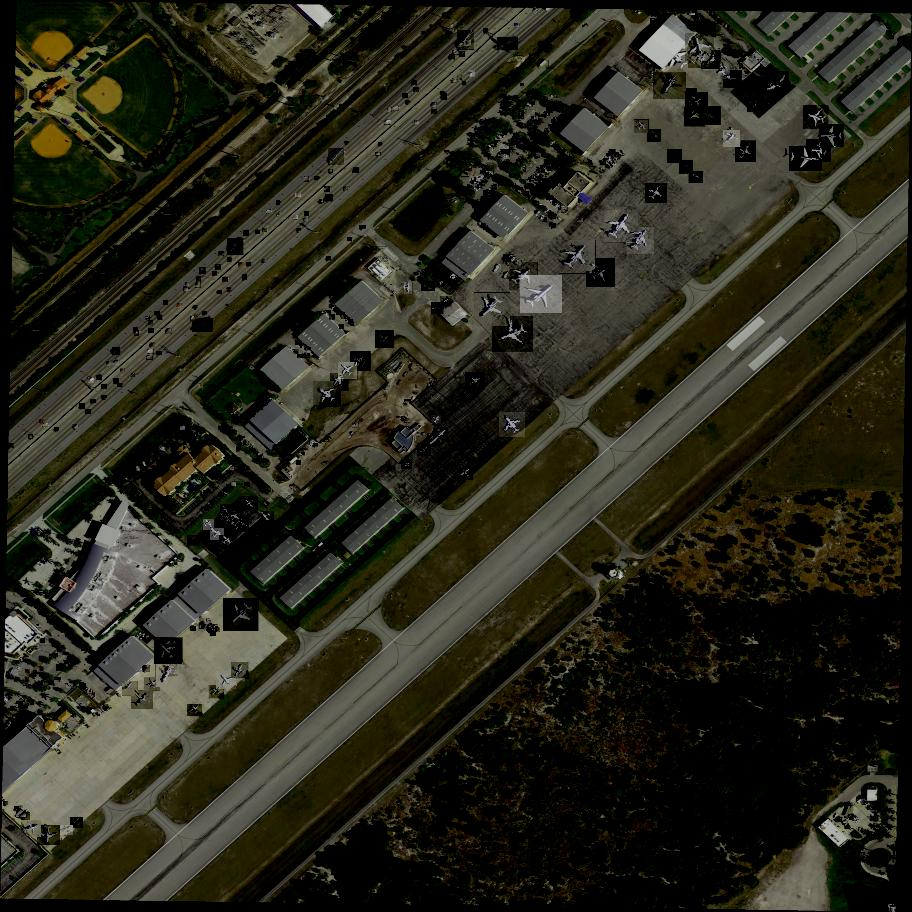large-vehicle: (458, 30, 474, 51), (192, 318, 214, 333), (227, 237, 244, 255), (328, 148, 344, 166), (498, 37, 519, 50), (844, 802, 854, 819), (538, 60, 549, 70), (16, 810, 28, 819), (508, 258, 518, 267), (21, 812, 30, 822), (494, 264, 502, 274), (9, 668, 18, 676), (142, 666, 152, 673), (503, 255, 513, 262), (503, 272, 511, 280), (15, 807, 22, 812)
plane: (520, 275, 563, 317), (494, 315, 534, 354), (560, 239, 596, 277), (474, 292, 510, 328), (223, 598, 259, 633), (605, 210, 638, 245), (653, 71, 686, 102), (585, 259, 615, 289), (509, 262, 539, 292), (626, 226, 655, 256), (685, 33, 715, 61), (789, 146, 822, 171), (155, 638, 184, 666), (313, 381, 341, 409), (156, 660, 183, 689), (500, 412, 526, 438), (804, 105, 830, 130), (807, 139, 832, 163), (685, 91, 708, 115), (688, 47, 711, 70), (819, 124, 843, 146), (735, 140, 756, 164), (684, 106, 706, 128), (131, 689, 154, 710), (645, 183, 667, 204), (37, 826, 60, 846), (350, 351, 371, 372), (216, 671, 236, 692), (701, 50, 721, 71), (700, 107, 721, 127), (466, 372, 486, 392), (339, 362, 358, 382), (376, 329, 395, 349), (723, 69, 742, 89), (21, 820, 42, 838), (331, 373, 349, 392), (723, 130, 742, 148), (232, 662, 249, 680), (122, 681, 139, 697), (209, 685, 225, 701), (144, 678, 161, 693), (748, 96, 763, 113), (433, 426, 449, 441), (668, 148, 683, 164), (243, 496, 259, 511), (187, 704, 203, 719), (714, 64, 730, 79), (634, 120, 649, 135), (417, 443, 432, 457), (679, 160, 693, 175), (647, 129, 661, 143), (460, 467, 474, 481), (689, 171, 704, 184), (230, 518, 243, 532), (211, 528, 225, 541), (238, 519, 251, 533), (219, 535, 233, 548), (777, 72, 790, 86), (431, 302, 444, 315), (428, 435, 441, 448), (229, 512, 242, 525), (262, 511, 274, 525), (221, 504, 233, 518), (440, 296, 453, 308), (422, 282, 435, 294), (222, 511, 234, 524), (188, 535, 201, 547), (71, 817, 84, 829), (203, 519, 215, 532), (767, 82, 780, 94), (402, 459, 413, 471), (686, 89, 697, 101), (60, 826, 73, 836), (431, 415, 442, 426), (405, 283, 412, 294)
small-vehicle: (113, 347, 120, 357), (326, 195, 334, 203), (200, 267, 207, 275), (833, 813, 840, 821), (437, 281, 445, 288), (56, 664, 63, 671), (215, 264, 222, 271), (469, 70, 476, 77), (441, 94, 448, 101), (430, 102, 437, 109), (547, 106, 554, 113), (518, 113, 525, 120), (190, 316, 198, 322), (858, 799, 864, 807), (462, 171, 470, 177), (295, 340, 302, 346), (66, 683, 73, 689), (329, 314, 335, 321), (190, 626, 197, 632), (93, 713, 99, 720), (210, 632, 217, 638), (199, 623, 206, 629), (238, 262, 245, 268), (79, 403, 85, 410), (147, 349, 154, 355), (113, 378, 119, 385), (218, 251, 224, 258), (243, 230, 249, 237), (548, 212, 555, 218), (459, 51, 465, 58), (278, 476, 285, 482), (517, 139, 524, 145), (554, 117, 560, 124), (165, 329, 173, 334), (835, 818, 843, 823), (79, 682, 85, 688), (10, 717, 16, 723), (131, 470, 137, 476), (163, 443, 169, 449), (339, 324, 345, 330), (173, 640, 179, 646), (354, 168, 360, 174), (215, 627, 221, 633), (193, 305, 199, 311), (106, 360, 112, 366), (149, 328, 155, 334), (88, 377, 94, 383), (147, 355, 153, 361), (73, 424, 79, 430), (85, 409, 91, 415), (156, 351, 162, 357), (149, 342, 155, 348), (101, 384, 107, 390), (164, 300, 170, 306), (233, 248, 239, 254), (547, 195, 553, 201), (536, 179, 542, 185), (533, 181, 539, 187), (615, 152, 621, 158), (614, 155, 620, 161), (608, 162, 614, 168), (609, 151, 615, 157), (405, 418, 411, 424), (353, 423, 359, 429), (218, 492, 224, 498), (454, 50, 460, 56), (431, 109, 437, 115), (514, 23, 520, 29), (204, 506, 210, 512), (168, 505, 174, 511), (498, 151, 504, 157), (518, 171, 524, 177), (491, 142, 497, 148), (10, 706, 17, 711), (59, 664, 66, 669), (185, 423, 192, 428), (305, 353, 310, 360), (135, 330, 140, 337), (114, 359, 119, 366), (96, 375, 103, 380), (520, 190, 527, 195), (560, 150, 567, 155), (546, 187, 553, 192), (841, 821, 848, 826), (577, 218, 584, 223), (611, 159, 616, 166), (223, 488, 230, 493), (384, 121, 391, 126), (413, 88, 420, 93), (523, 151, 530, 156), (471, 164, 478, 169), (857, 797, 862, 803), (65, 632, 70, 638), (81, 648, 87, 653), (19, 709, 25, 714), (8, 718, 13, 724), (136, 466, 141, 472), (143, 461, 148, 467), (9, 443, 14, 449), (50, 655, 56, 660), (20, 657, 25, 663), (262, 228, 268, 233), (305, 176, 310, 182), (294, 349, 300, 354), (304, 346, 310, 351), (289, 345, 294, 351), (337, 310, 342, 316), (348, 319, 353, 325), (59, 701, 64, 707), (104, 704, 109, 710), (325, 186, 330, 192), (344, 186, 349, 192), (214, 625, 219, 631), (204, 624, 209, 630), (243, 275, 248, 281), (223, 278, 229, 283), (202, 311, 208, 316), (177, 303, 182, 309), (196, 282, 201, 288), (197, 276, 202, 282), (516, 187, 521, 193), (513, 186, 519, 191), (510, 184, 516, 189), (487, 189, 493, 194), (492, 185, 497, 191), (539, 205, 544, 211), (536, 204, 542, 209), (479, 182, 485, 187), (538, 177, 544, 182), (536, 169, 542, 174), (553, 180, 558, 186), (545, 160, 550, 166), (566, 154, 571, 160), (472, 178, 477, 184), (483, 177, 489, 182), (551, 214, 556, 220), (536, 211, 542, 216), (887, 30, 893, 35), (872, 810, 878, 815), (850, 814, 855, 820), (854, 819, 860, 824), (845, 823, 850, 829), (634, 56, 640, 61), (639, 59, 645, 64), (650, 18, 656, 23), (600, 160, 606, 165), (388, 107, 393, 113), (440, 91, 446, 96), (450, 55, 455, 61), (403, 94, 409, 99), (405, 100, 410, 106), (208, 502, 213, 508), (239, 436, 245, 441), (243, 439, 248, 445), (260, 456, 265, 462), (257, 454, 263, 459), (245, 482, 251, 487), (514, 144, 520, 149), (504, 154, 509, 160), (501, 149, 507, 154), (548, 124, 554, 129), (529, 177, 534, 183), (535, 172, 541, 177), (465, 42, 471, 47), (527, 121, 532, 127), (544, 112, 550, 117), (536, 120, 542, 125), (538, 118, 543, 124), (514, 133, 519, 139), (499, 133, 505, 138), (159, 447, 166, 451), (297, 355, 304, 359), (113, 638, 120, 642), (69, 681, 74, 686), (5, 720, 10, 725), (4, 710, 9, 715), (65, 659, 70, 664), (134, 470, 139, 475), (166, 440, 171, 445), (175, 434, 180, 439), (181, 427, 186, 432), (130, 472, 135, 477), (25, 669, 30, 674), (18, 668, 23, 673), (29, 700, 34, 705), (255, 230, 260, 235), (315, 176, 320, 181), (325, 310, 330, 315), (293, 215, 298, 220), (300, 343, 305, 348), (306, 348, 311, 353), (342, 315, 347, 320), (176, 583, 181, 588), (64, 724, 69, 729), (74, 715, 79, 720), (101, 649, 106, 654), (217, 290, 222, 295), (247, 263, 252, 268), (227, 287, 232, 292), (134, 328, 139, 333), (118, 383, 123, 388), (158, 316, 163, 321), (228, 258, 233, 263), (481, 224, 486, 229), (472, 204, 477, 209), (489, 187, 494, 192), (551, 199, 556, 204), (556, 204, 561, 209), (545, 209, 550, 214), (402, 417, 407, 422), (866, 803, 871, 808), (853, 817, 858, 822), (859, 827, 864, 832), (670, 10, 675, 15), (588, 160, 593, 165), (583, 25, 588, 30), (619, 151, 624, 156), (557, 146, 562, 151), (403, 402, 408, 407), (462, 82, 467, 87), (203, 490, 208, 495), (233, 430, 238, 435), (194, 432, 199, 437), (250, 413, 255, 418), (313, 443, 318, 448), (231, 483, 236, 488), (297, 461, 302, 466), (484, 29, 489, 34), (550, 141, 555, 146), (535, 154, 540, 159), (518, 157, 523, 162), (506, 153, 511, 158), (501, 156, 506, 161), (445, 150, 450, 155), (532, 175, 537, 180), (504, 146, 509, 151), (532, 125, 537, 130), (531, 116, 536, 121), (535, 112, 540, 117), (528, 103, 533, 108), (531, 101, 536, 106), (489, 143, 494, 148), (452, 277, 457, 282), (488, 146, 493, 151), (496, 137, 501, 142), (502, 131, 507, 136), (93, 694, 97, 700), (18, 701, 24, 705), (8, 709, 14, 713), (146, 459, 150, 465), (38, 667, 44, 671), (295, 194, 301, 198), (303, 217, 309, 221), (95, 711, 101, 715), (305, 211, 309, 217), (258, 406, 264, 410), (484, 191, 490, 195), (544, 169, 550, 173), (564, 152, 568, 158), (557, 149, 563, 153), (484, 175, 490, 179), (470, 182, 476, 186), (544, 190, 550, 194), (541, 215, 545, 221), (40, 560, 46, 564), (543, 217, 547, 223), (575, 246, 581, 250), (605, 165, 611, 169), (610, 150, 616, 154), (555, 144, 559, 150), (227, 484, 233, 488), (241, 439, 247, 443), (205, 506, 211, 510), (496, 154, 502, 158), (526, 180, 532, 184), (529, 120, 535, 124), (512, 137, 518, 141), (518, 260, 522, 266), (88, 691, 93, 695), (84, 687, 89, 691), (82, 684, 86, 689), (41, 680, 46, 684), (49, 680, 53, 685), (55, 678, 60, 682), (5, 696, 9, 701), (20, 699, 25, 703), (27, 702, 32, 706), (25, 704, 29, 709), (16, 712, 21, 716), (14, 704, 19, 708), (154, 452, 158, 457), (126, 477, 130, 482), (177, 431, 182, 435), (57, 649, 62, 653), (52, 653, 57, 657), (32, 673, 37, 677), (26, 678, 30, 683), (41, 638, 45, 643), (35, 645, 40, 649), (329, 304, 334, 308), (263, 259, 267, 264), (327, 256, 331, 261), (341, 312, 345, 317), (171, 587, 176, 591), (97, 709, 102, 713), (207, 628, 212, 632), (148, 321, 153, 325), (185, 283, 190, 287), (478, 223, 483, 227), (481, 198, 485, 203), (482, 196, 487, 200), (559, 206, 563, 211), (494, 184, 499, 188), (477, 184, 482, 188), (534, 175, 539, 179), (542, 173, 546, 178), (489, 170, 493, 175), (467, 184, 472, 188), (475, 177, 479, 182), (477, 176, 481, 181), (480, 171, 485, 175), (485, 167, 490, 171), (38, 562, 43, 566), (862, 829, 866, 834), (648, 64, 652, 69), (533, 9, 538, 13), (552, 223, 556, 228), (550, 222, 554, 227), (604, 158, 608, 163), (379, 142, 383, 147), (394, 107, 399, 111), (254, 449, 258, 454), (237, 447, 241, 452), (263, 401, 267, 406), (226, 470, 230, 475), (452, 78, 456, 83), (507, 149, 511, 154), (467, 168, 472, 172), (509, 140, 513, 145), (535, 115, 539, 120), (544, 129, 549, 133), (504, 130, 509, 134), (154, 311, 160, 314), (692, 16, 698, 19), (611, 159, 617, 162), (413, 121, 419, 124), (551, 95, 557, 98), (88, 689, 92, 693), (67, 667, 71, 671), (69, 664, 73, 668), (30, 674, 34, 678), (33, 670, 37, 674), (15, 660, 19, 664), (348, 238, 352, 242), (107, 643, 111, 647), (100, 708, 104, 712), (107, 646, 111, 650), (184, 287, 188, 291), (237, 399, 241, 403), (484, 193, 488, 197), (562, 210, 566, 214), (564, 207, 568, 211), (533, 201, 537, 205), (483, 168, 487, 172), (730, 29, 734, 33), (590, 164, 594, 168), (606, 156, 610, 160), (201, 491, 205, 495), (253, 412, 257, 416), (290, 485, 294, 489), (521, 167, 525, 171), (506, 144, 510, 148), (547, 126, 551, 130), (512, 139, 516, 143), (456, 278, 460, 282), (494, 140, 498, 144), (498, 136, 502, 140), (43, 423, 48, 426), (484, 225, 487, 230), (519, 187, 522, 192), (543, 164, 548, 167), (739, 66, 744, 69), (695, 13, 700, 16), (692, 10, 697, 13), (230, 467, 235, 470), (536, 153, 541, 156), (551, 120, 556, 123), (541, 114, 546, 117), (522, 110, 527, 113), (404, 400, 411, 402), (14, 714, 18, 717), (13, 714, 16, 718), (100, 502, 103, 506), (68, 658, 71, 662), (67, 698, 71, 701), (332, 307, 335, 311), (303, 345, 306, 349), (174, 586, 178, 589), (209, 629, 213, 632), (29, 434, 32, 438), (131, 374, 135, 377), (546, 167, 550, 170), (551, 184, 555, 187), (479, 175, 483, 178), (712, 13, 715, 17), (360, 226, 366, 228), (412, 81, 416, 84), (534, 123, 538, 126), (71, 662, 76, 664), (296, 229, 301, 231), (54, 428, 59, 430), (91, 400, 96, 402), (102, 396, 107, 398), (486, 173, 491, 175), (745, 71, 750, 73), (738, 63, 743, 65), (695, 18, 700, 20), (607, 154, 612, 156), (375, 153, 380, 155), (260, 403, 265, 405), (510, 148, 515, 150), (102, 707, 105, 710), (320, 199, 323, 202), (207, 618, 210, 621), (4, 801, 7, 804), (121, 369, 124, 372), (478, 200, 481, 203), (549, 197, 552, 200), (543, 206, 546, 209), (458, 76, 461, 79), (251, 449, 254, 452), (162, 515, 165, 518), (91, 693, 95, 695), (37, 625, 41, 627), (334, 309, 338, 311), (351, 322, 353, 326), (525, 192, 529, 194), (541, 165, 545, 167), (728, 41, 732, 43), (725, 24, 727, 28), (875, 815, 877, 819), (864, 801, 868, 803), (875, 812, 877, 816), (585, 158, 587, 162), (517, 159, 521, 161), (267, 211, 270, 213), (276, 213, 279, 215), (277, 201, 279, 204), (214, 272, 216, 275), (548, 210, 550, 213), (868, 806, 870, 809), (847, 826, 850, 828), (553, 143, 556, 145), (210, 500, 213, 502), (250, 447, 252, 450), (222, 474, 225, 476), (154, 490, 157, 492), (232, 465, 235, 467), (521, 84, 524, 86), (724, 45, 729, 46), (723, 40, 728, 41), (718, 18, 719, 23), (690, 14, 695, 15), (330, 170, 332, 172), (347, 318, 349, 320), (68, 725, 70, 727), (41, 420, 43, 422), (299, 342, 301, 344), (536, 202, 538, 204), (482, 181, 486, 182), (891, 36, 893, 38), (345, 142, 349, 143), (303, 453, 305, 455), (243, 466, 245, 468), (728, 26, 729, 29), (710, 13, 711, 16), (699, 16, 702, 17), (247, 442, 248, 444), (521, 111, 523, 112), (148, 317, 149, 318), (871, 808, 872, 809), (524, 166, 525, 167), (722, 22, 722, 24)
